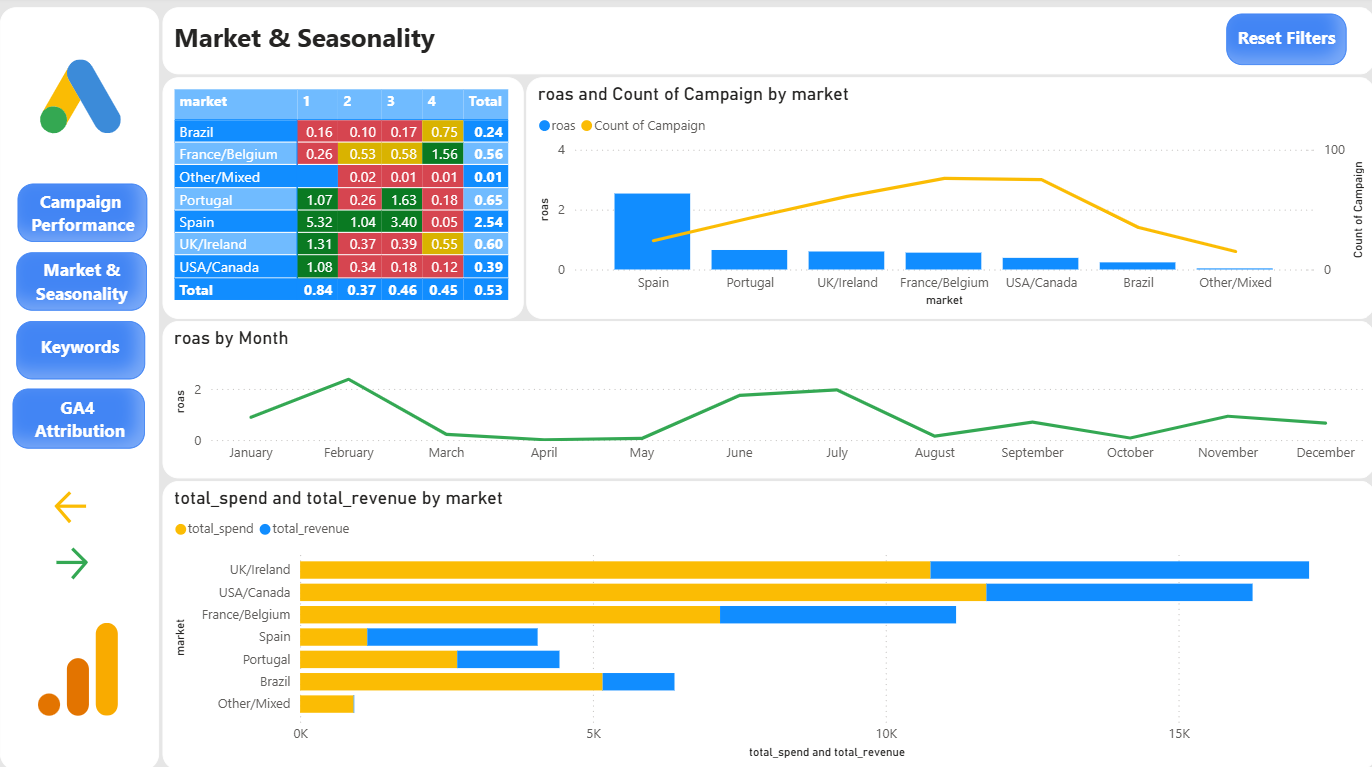

The page's visual inventory and layout, read from the dashboard file:
{"tool":"powerbi","page":{"name":"Market & Seasonality","canvas":[1280,720],"ordinal":2},"visuals":[{"type":"lineStackedColumnComboChart","title":"What is the market with the best potential?","fields":{"Category":["campaigns_clean.market"],"Y":["_Measures.roas"],"Y2":["CountNonNull(campaigns_clean.Campaign)"]},"box":[522.2,75.6,757.8,244.4],"z":0},{"type":"pivotTable","fields":{"Rows":["campaigns_clean.market"],"Columns":["campaigns_clean.quarter"],"Values":["_Measures.roas"]},"box":[151.1,75.6,367.8,244.4],"z":1000},{"type":"clusteredColumnChart","title":"Is the investment paying off?","fields":{"Category":["campaigns_clean.market"],"Y":["_Measures.total_spend","_Measures.total_revenue"]},"box":[151.1,488.9,1128.9,230],"z":2000},{"type":"lineChart","title":"Is there any seasonality?","fields":{"Category":["campaigns_clean.Month.Variation.Date Hierarchy.Month"],"Y":["_Measures.roas"]},"box":[151.1,323.3,1128.9,163.3],"z":3000},{"type":"textbox","box":[0,10.5,147.7,709.3],"z":4000},{"type":"image","box":[37.2,0,75.6,187.2],"z":5000},{"type":"textbox","box":[151.2,10.5,1129.1,62.8],"z":6000},{"type":"textbox","box":[1140.7,16.3,111.6,47.7],"z":7000},{"type":"textbox","box":[1146.5,22.1,112.8,43],"z":8000},{"type":"textbox","box":[11.6,365.1,123.3,55.8],"z":9000},{"type":"textbox","box":[1.2,366.3,146.5,55.8],"z":10000},{"type":"textbox","box":[15.1,302.3,119.8,54.7],"z":11000},{"type":"textbox","box":[22.1,309.3,104.7,41.9],"z":12000},{"type":"textbox","box":[14.9,238.2,121.8,54.1],"z":13000},{"type":"textbox","box":[18.9,238.2,115,67.7],"z":14000},{"type":"textbox","box":[16.3,174.4,120.9,54.7],"z":15000},{"type":"textbox","box":[16.3,174.4,122.1,79.1],"z":16000},{"type":"image","box":[34.9,566.3,75.6,119.8],"z":17000},{"type":"actionButton","box":[46.5,455.8,100,39.5],"z":18000},{"type":"actionButton","box":[46.5,508.1,100,39.5],"z":19000}]}

Visuals, with their boxes on the page's 1280x720 design canvas (x1, y1, x2, y2). These are canvas units, not pixel positions in the 1372x767 screenshot, which may show the page scaled, cropped or inside an application window:
"What is the market with the best potential?" lineStackedColumnComboChart: (522,76,1280,320)
pivotTable - campaigns_clean.market x campaigns_clean.quarter: (151,76,519,320)
"Is the investment paying off?" clusteredColumnChart: (151,489,1280,719)
"Is there any seasonality?" lineChart: (151,323,1280,487)
textbox: (0,10,148,720)
image: (37,0,113,187)
textbox: (151,10,1280,73)
textbox: (1141,16,1252,64)
textbox: (1146,22,1259,65)
textbox: (12,365,135,421)
textbox: (1,366,148,422)
textbox: (15,302,135,357)
textbox: (22,309,127,351)
textbox: (15,238,137,292)
textbox: (19,238,134,306)
textbox: (16,174,137,229)
textbox: (16,174,138,254)
image: (35,566,110,686)
actionButton: (46,456,146,495)
actionButton: (46,508,146,548)
